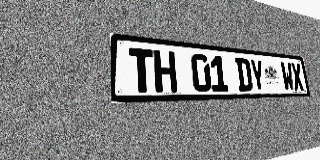0: (190, 53, 212, 92)
1: (209, 55, 228, 92)
D: (235, 58, 253, 91)
H: (153, 50, 178, 93)
T: (128, 47, 155, 93)
W: (280, 62, 295, 91)
X: (290, 63, 304, 91)
Y: (249, 59, 266, 91)
